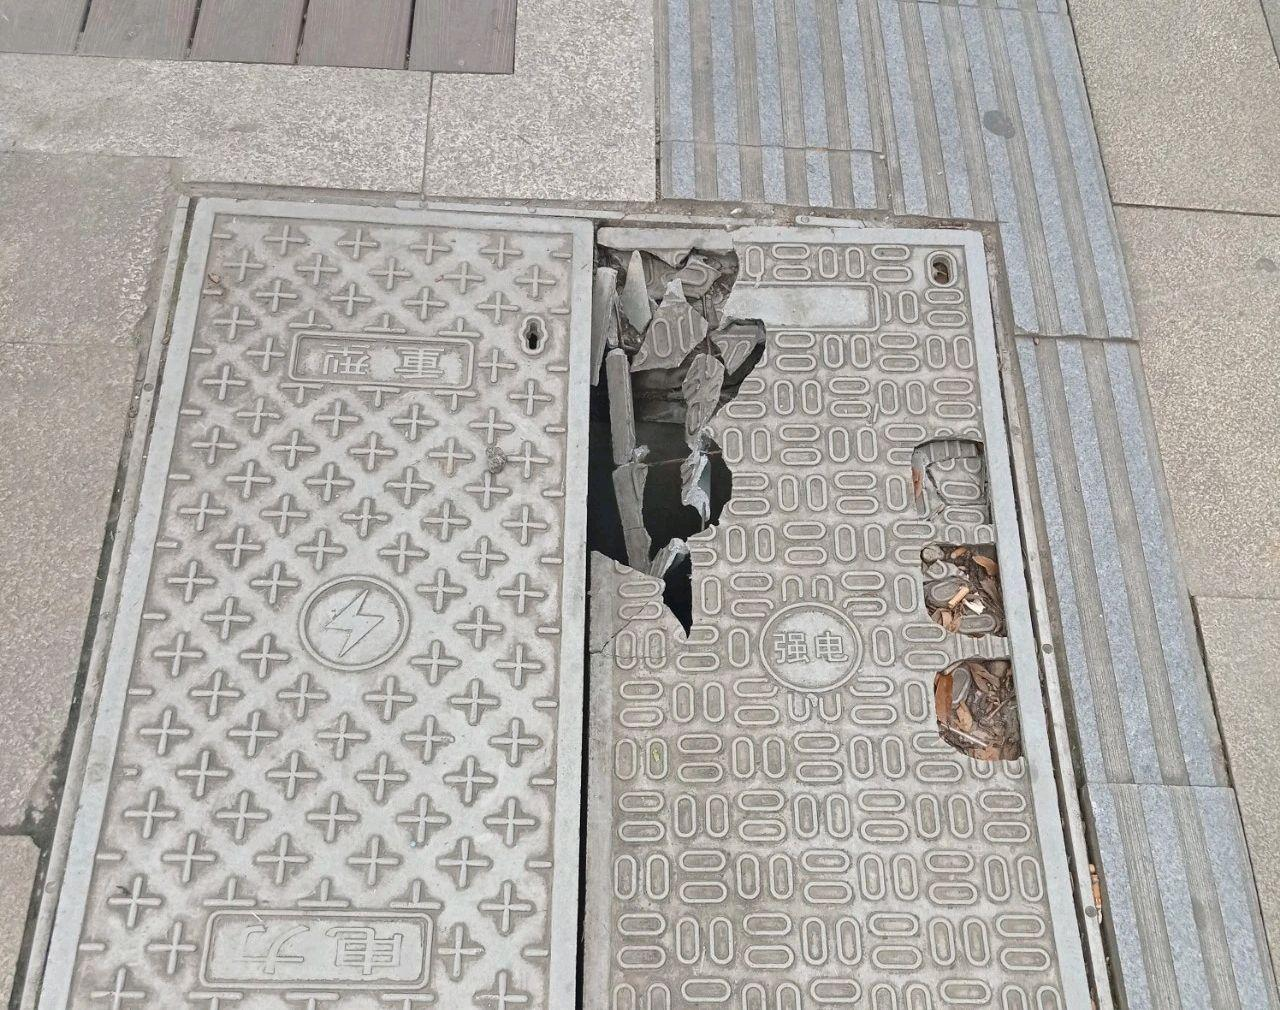wellcover: (36, 140, 1155, 1010)
